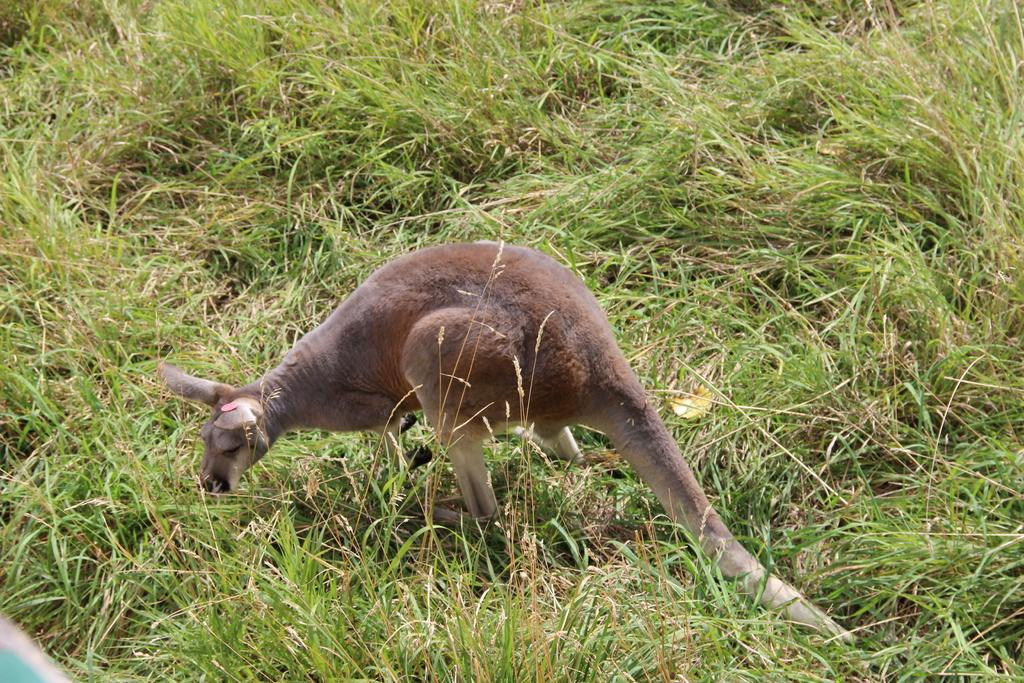kangaroo: (160, 240, 864, 649)
